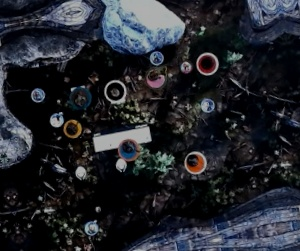black: (103, 81, 130, 108)
brown_turquoise: (66, 85, 93, 112)
light_blue_orange: (115, 134, 142, 161)
orange: (182, 148, 209, 175)
pink_green: (144, 63, 171, 90)
red: (195, 51, 222, 77)
yellow_night_blue: (58, 117, 85, 144)
